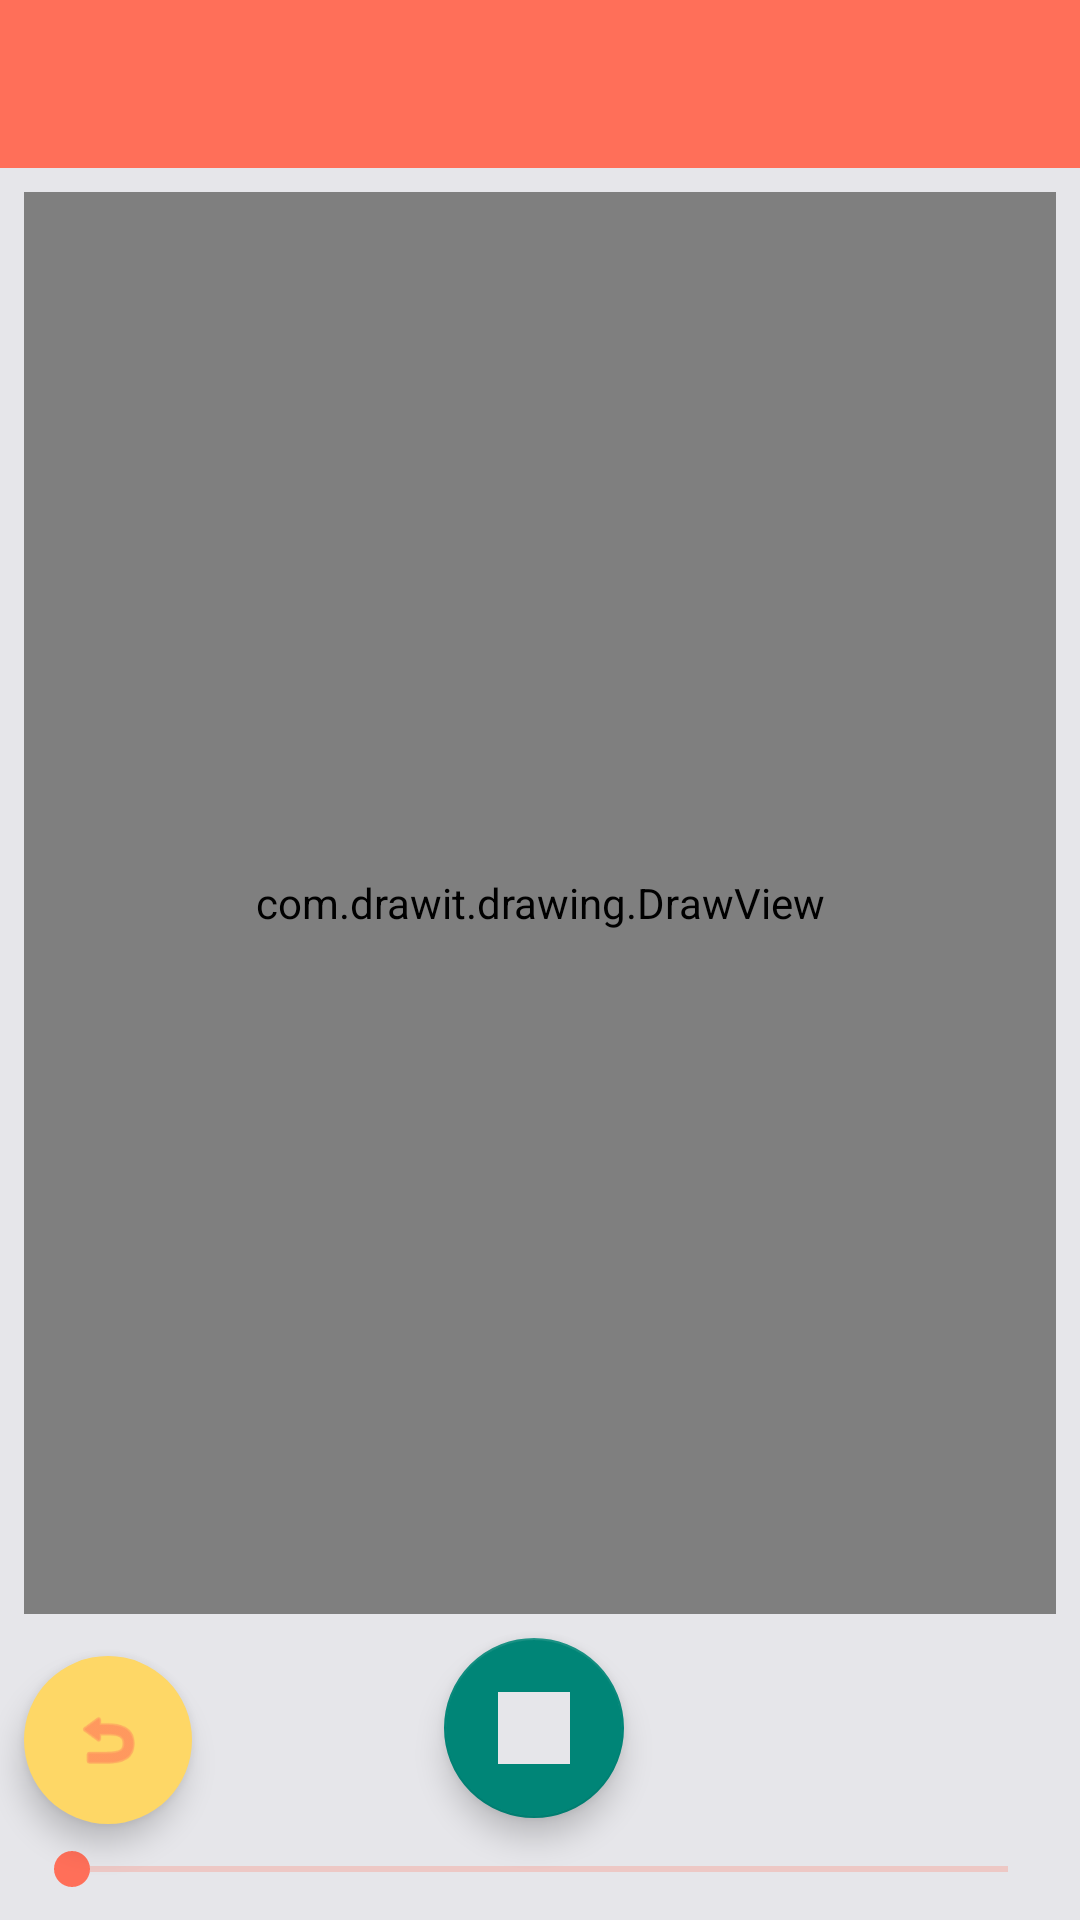

Where to tap for icons on this 1080 x 1920 app screen, as (x,y):
revert: (108,1740)
